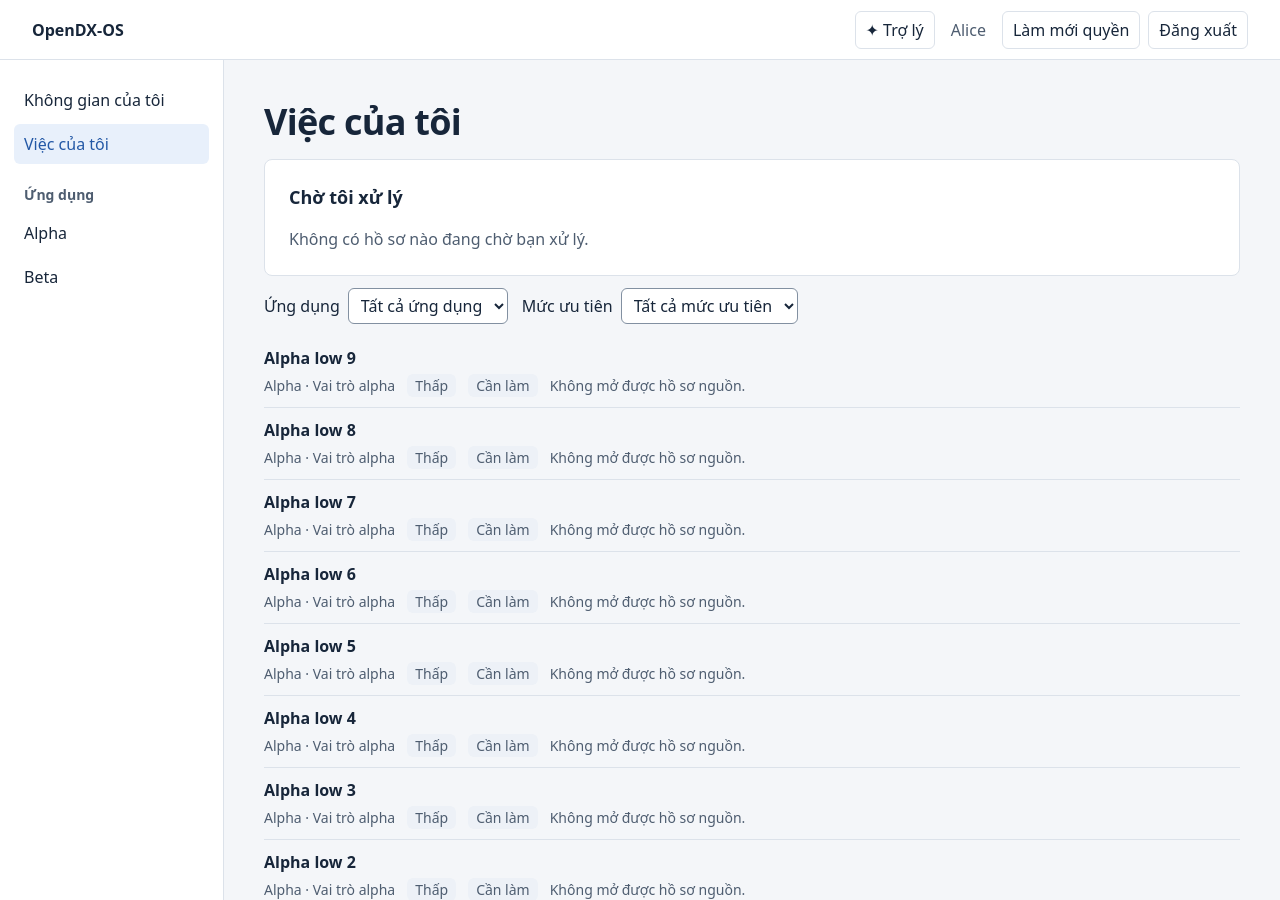
Test: filters loaded results by app and priority, and loads more per eligible grant
The width and height of the screenshot is (1280, 900).
Check: the heading "Việc của tôi" is shown, box [264,97,461,146]
Check: the text "Vai trò alpha" below "Alpha low 9" is shown, box [313,376,395,395]
Select "Alpha" in the dropdown labelled "Ứng dụng" at [428, 306], box [348,288,508,324]
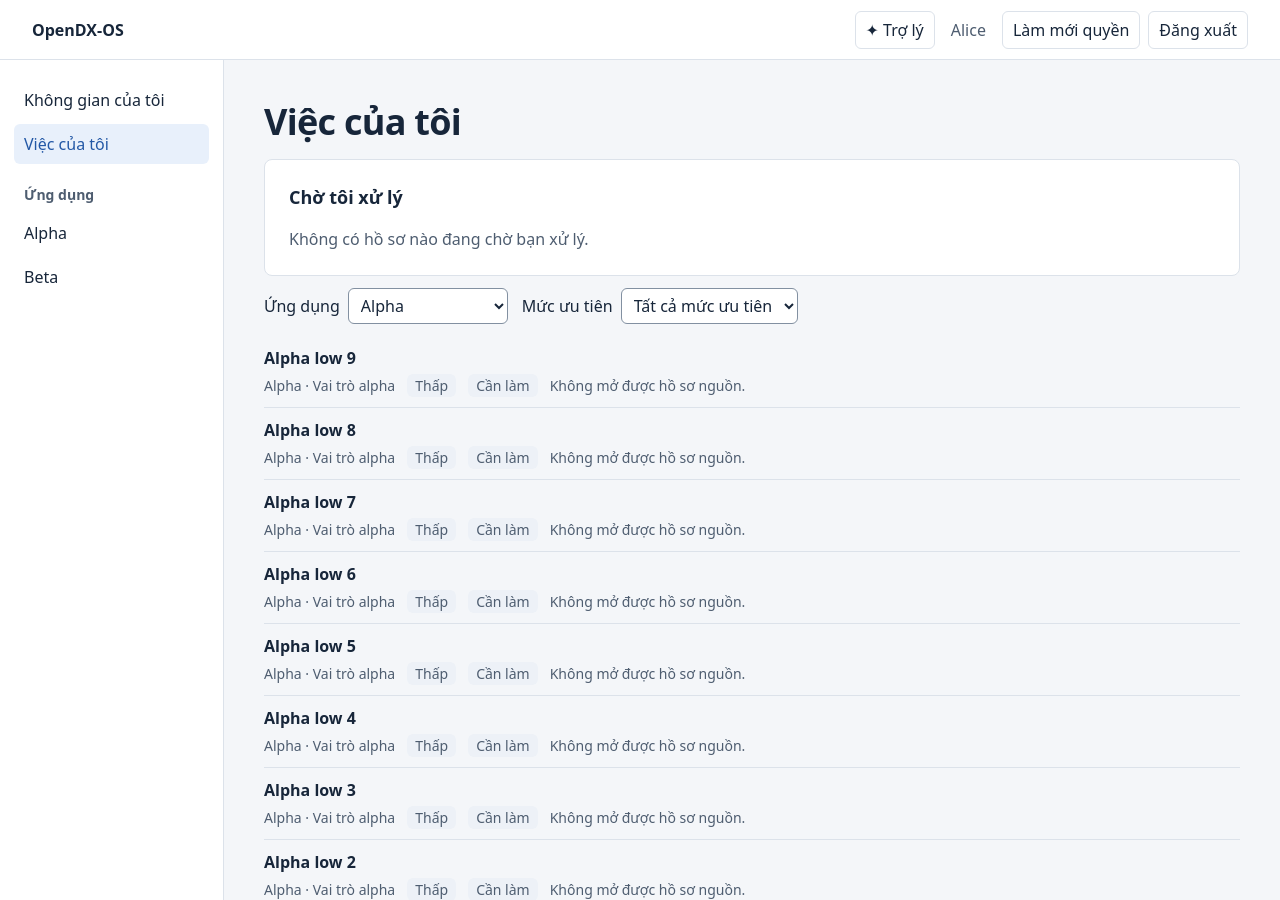
Select "Cao" in the dropdown labelled "Mức ưu tiên" at [709, 306], box [621,288,798,324]
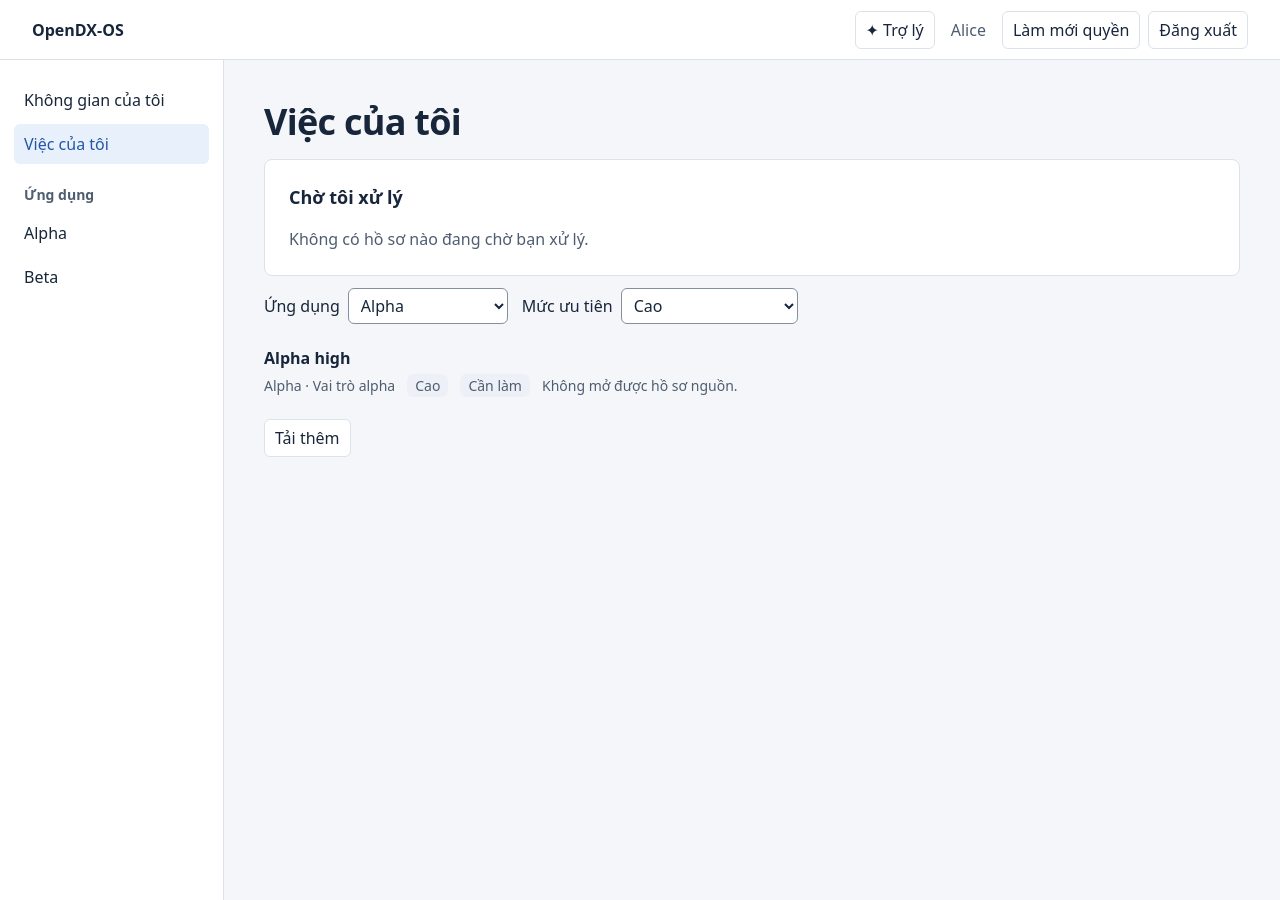
Check: the text "Alpha older high" is not shown
Click the button "Tải thêm" at [307, 438], box [264,419,350,457]
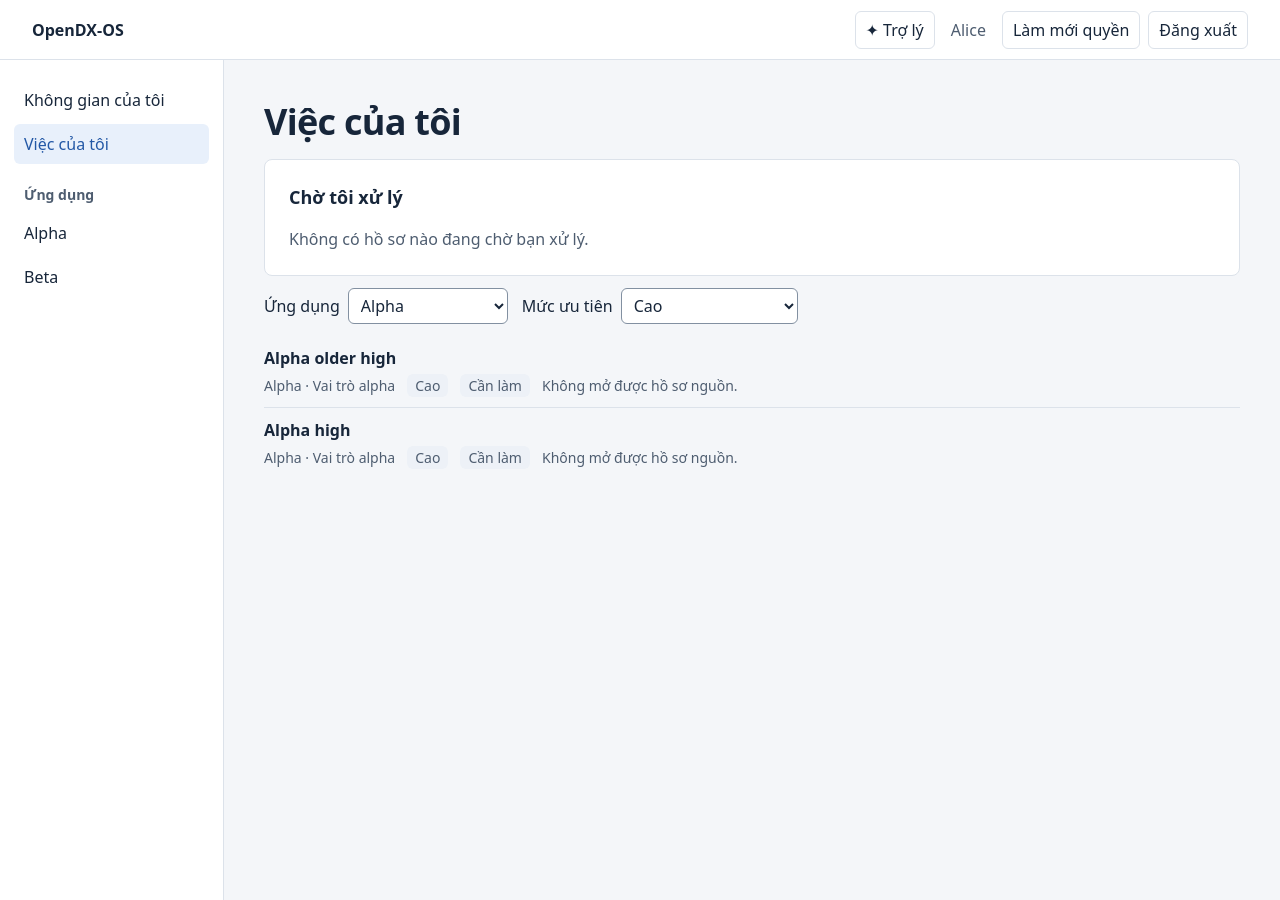
Check: the text "Alpha high" is shown, box [264,419,350,441]
Check: the text "Alpha older high" is shown, box [264,347,396,369]
